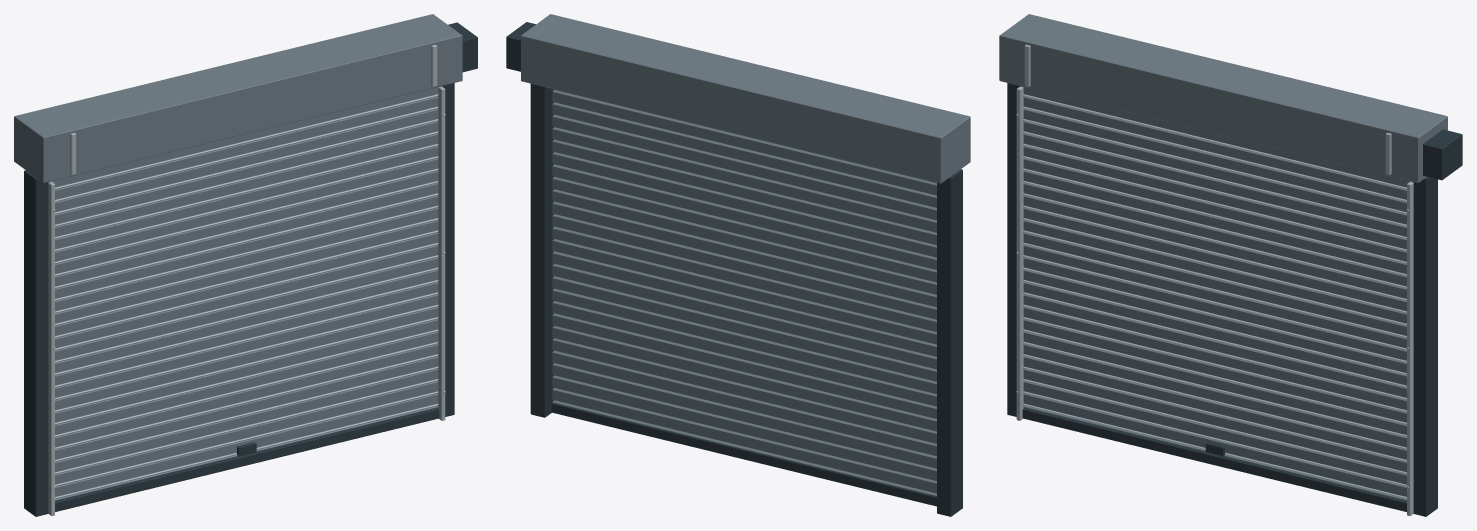
File: b12_roll_up_storefront_shutter.glb
3 views of the same model, side by side, from view 1: azimuth 30°, elevation 25°; view 2: azimuth 150°, elevation 25°; view 3: azimuth 330°, elevation 25° (orthographic).
Parts seen in each view (by area): view 1: b12_roll_up_storefront_shutter; view 2: b12_roll_up_storefront_shutter; view 3: b12_roll_up_storefront_shutter.
Part boxes in pixels (box(x1,y1,x2,y2)): b12_roll_up_storefront_shutter: box(14, 14, 477, 516); b12_roll_up_storefront_shutter: box(506, 14, 970, 516); b12_roll_up_storefront_shutter: box(999, 14, 1462, 516).
Size of the model in its own units: 3.6 by 3.02 by 0.442.
